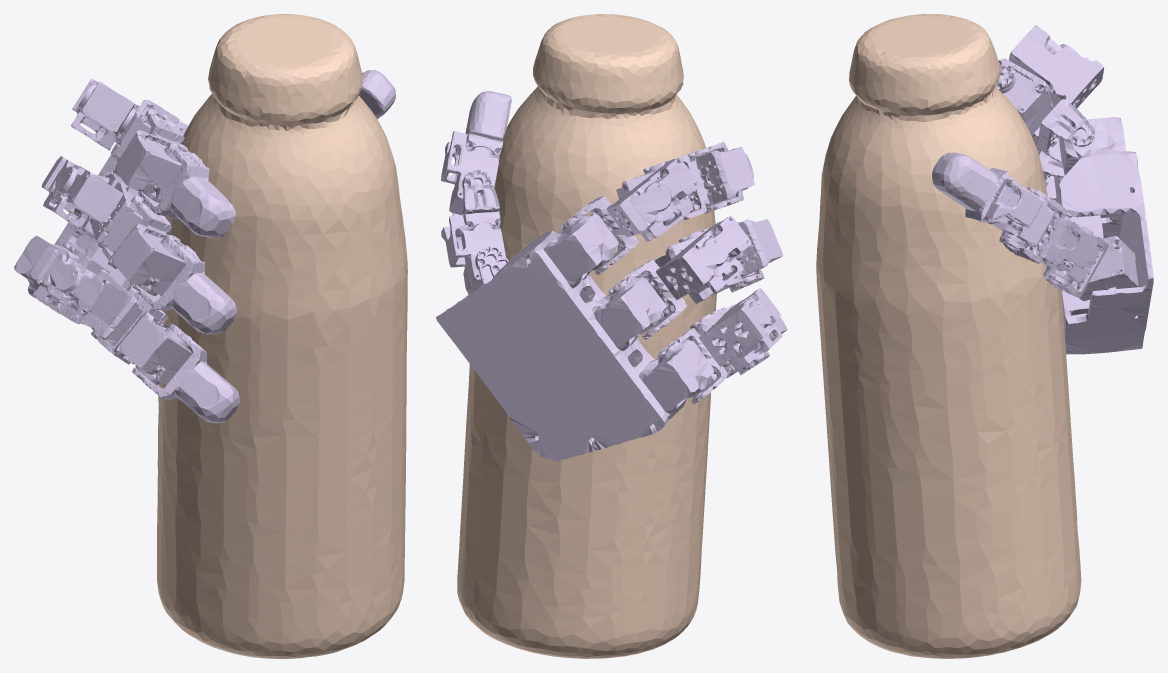
File: 6aed4df77ee9f6-final.glb
3 views of the same model, side by side, from view 1: azimuth 30°, elevation 25°; view 2: azimuth 150°, elevation 25°; view 3: azimuth 270°, elevation 25° (orthographic). The views are drawn at different scales.
Parts seen in each view (by area): view 1: world, LEAP_hand; view 2: world, LEAP_hand; view 3: world, LEAP_hand.
Boxes of the visible parts, left/top/right/bottom form: world: left=157, top=14, right=407, bottom=658; LEAP_hand: left=14, top=70, right=395, bottom=423; world: left=457, top=14, right=716, bottom=658; LEAP_hand: left=436, top=91, right=787, bottom=460; world: left=816, top=14, right=1081, bottom=658; LEAP_hand: left=932, top=25, right=1153, bottom=354.
Bounding box in the file's own units: 0.216 × 0.3625 × 0.1891.
